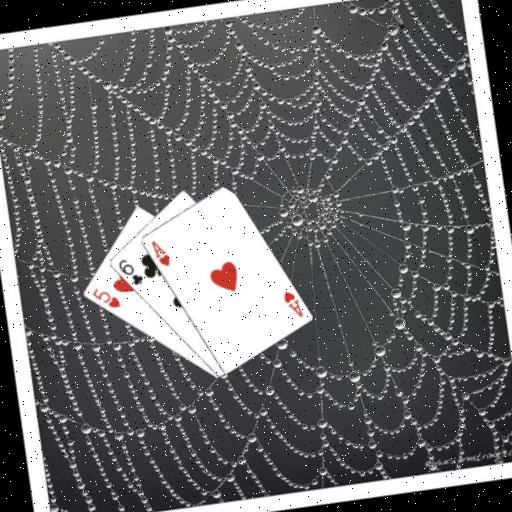5H: (88, 282, 122, 313)
6C: (114, 254, 145, 289)
AH: (147, 236, 172, 271), (280, 287, 305, 322)
